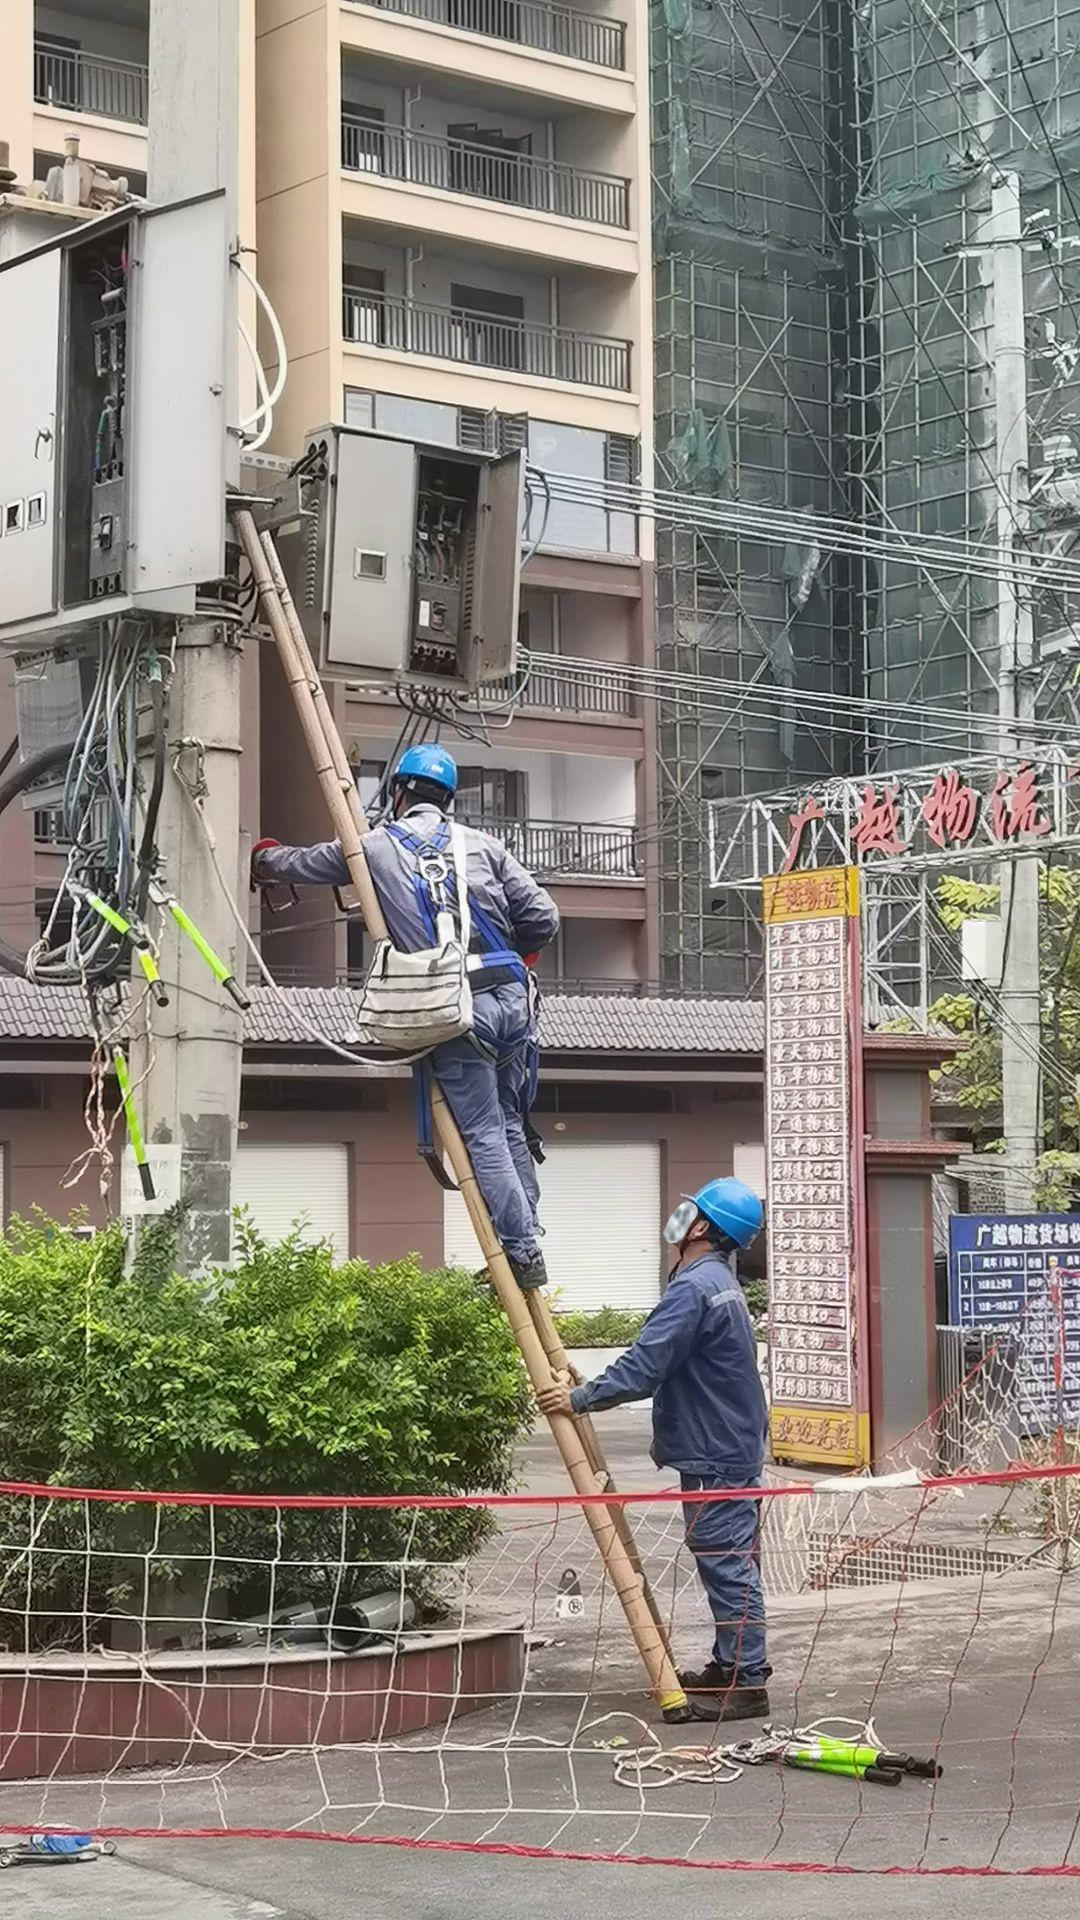halt: (676, 1182, 767, 1259), (390, 749, 462, 818)
inear: (679, 1211, 723, 1251)
